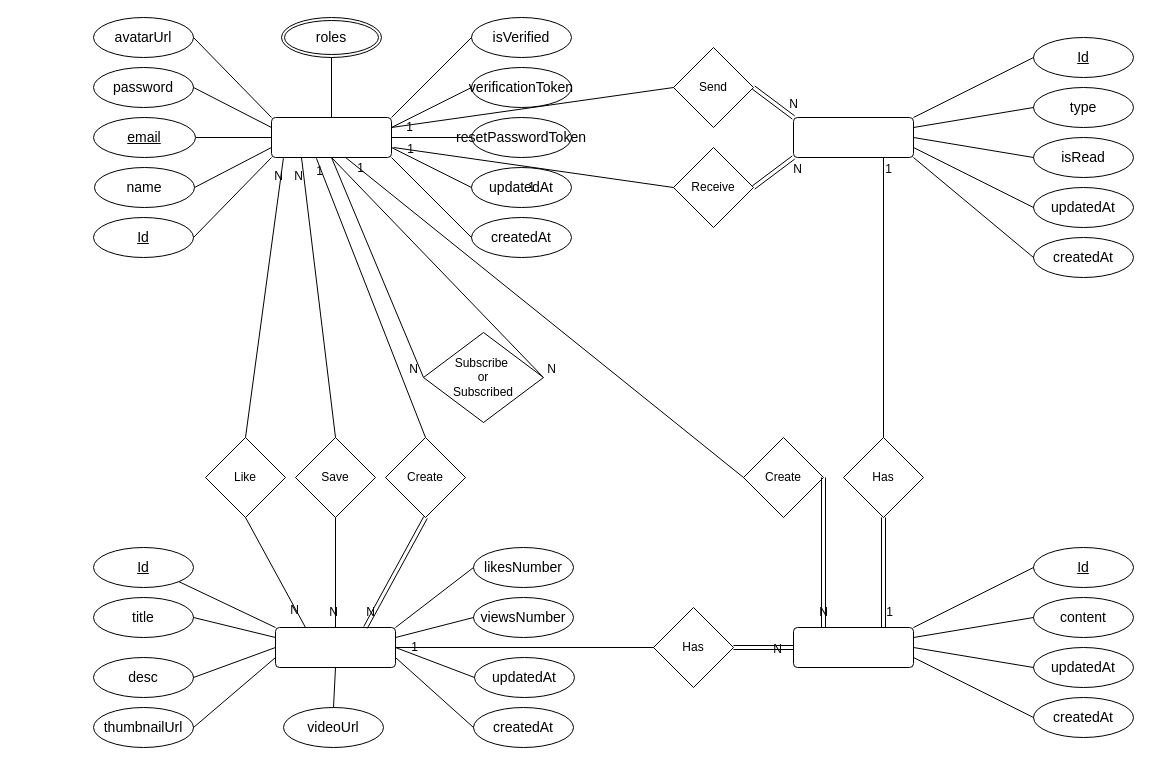
Some shapes in this 1151 by 765 pixel diagram are drawn without their labels. The centre of each missing label's shape, as x and y in pixels:
"Comment" goes at [853,647].
"Notification" goes at [853,137].
"User" goes at [331,137].
"Video" goes at [335,647].
